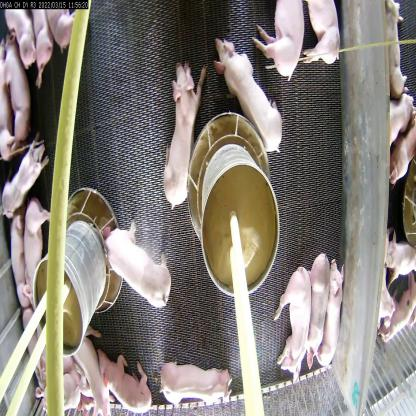Pig: (212, 25, 284, 158), (158, 53, 207, 224), (101, 207, 172, 312), (272, 253, 314, 381), (1, 132, 51, 225), (252, 0, 304, 86), (94, 342, 152, 414), (161, 357, 231, 410), (316, 250, 344, 370), (2, 26, 28, 151), (22, 196, 50, 305), (303, 2, 341, 76), (307, 249, 327, 369)
